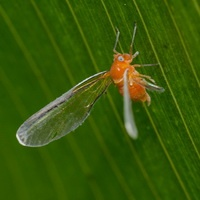insect: (16, 23, 163, 146)
